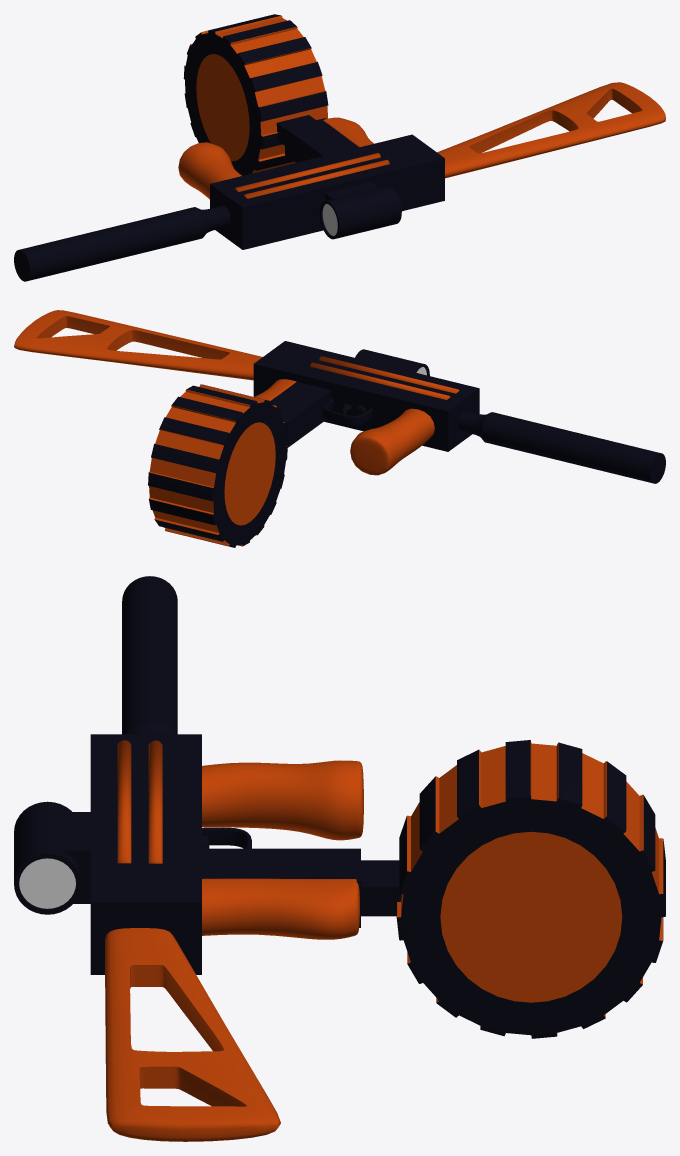
File: MAC102.fbx
3 renders of one model, top to bottom at view 1: azimuth 30°, elevation 25°; view 2: azimuth 150°, elevation 25°; view 3: azimuth 270°, elevation 25°, orthographic. The views are drawn at different scales.
Parts seen in each view (by area): view 1: CUERPO2, PROVEEDOR2, CULATA2, CAÑON2, MIRA.001; view 2: PROVEEDOR2, CUERPO2, CULATA2, CAÑON2, MIRA.001; view 3: PROVEEDOR2, CUERPO2, CULATA2, CAÑON2, MIRA.001.
Boxes of the visible parts, x1=… form: CUERPO2: x1=178, y1=117, x2=444, y2=249; PROVEEDOR2: x1=183, y1=14, x2=328, y2=175; CULATA2: x1=437, y1=82, x2=665, y2=178; CAÑON2: x1=14, y1=205, x2=230, y2=281; MIRA.001: x1=319, y1=182, x2=401, y2=239; PROVEEDOR2: x1=148, y1=384, x2=287, y2=547; CUERPO2: x1=253, y1=341, x2=479, y2=475; CULATA2: x1=14, y1=310, x2=262, y2=380; CAÑON2: x1=457, y1=410, x2=665, y2=483; MIRA.001: x1=355, y1=349, x2=429, y2=375; PROVEEDOR2: x1=361, y1=740, x2=665, y2=1038; CUERPO2: x1=90, y1=734, x2=363, y2=974; CULATA2: x1=105, y1=928, x2=280, y2=1141; CAÑON2: x1=122, y1=576, x2=177, y2=734; MIRA.001: x1=14, y1=801, x2=90, y2=914.
Bounding box in the file's own units: 3161 × 676 × 1636.
